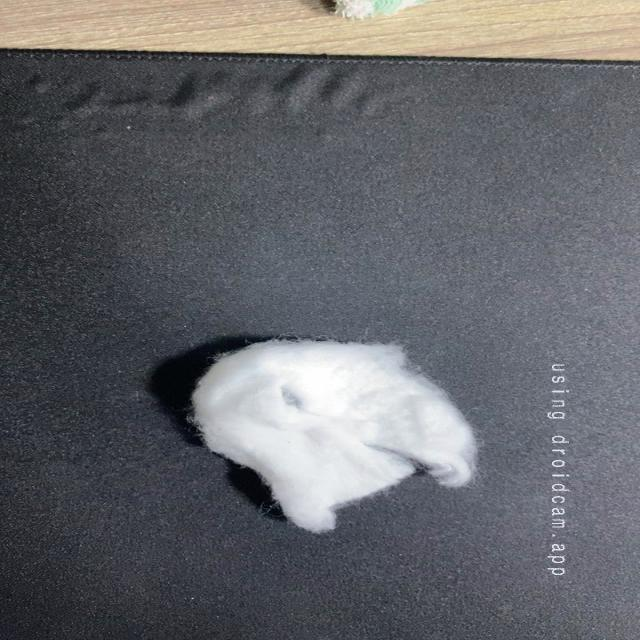cotton: (178, 332, 489, 540)
